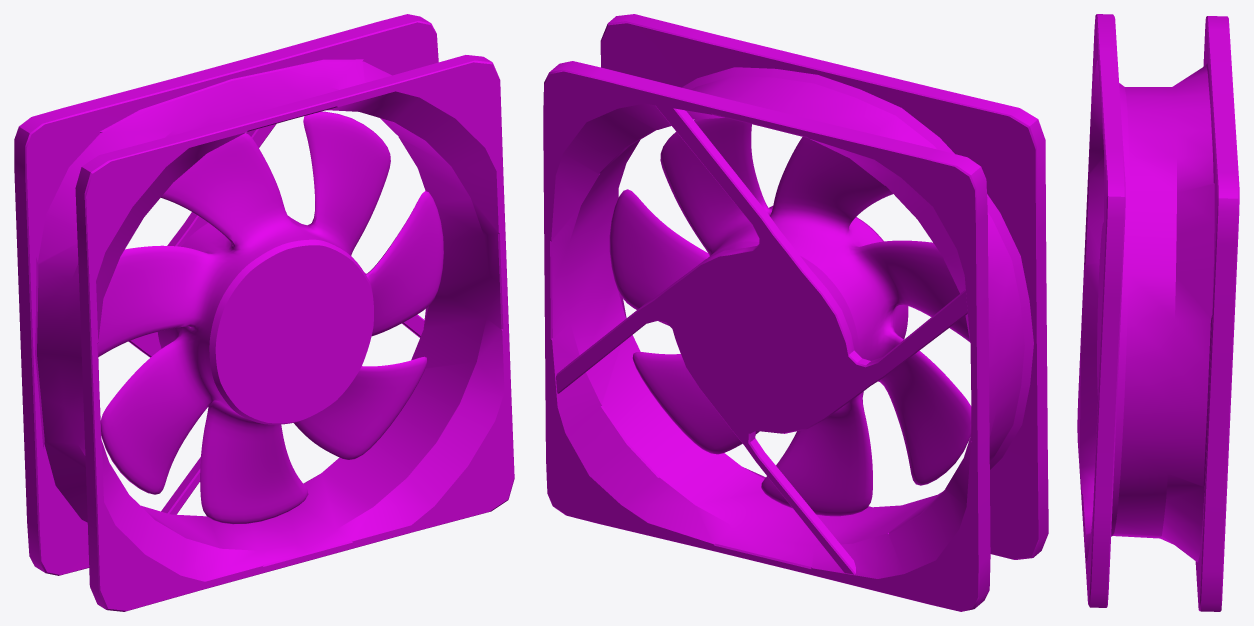
File: fan.glb
3 views of the same model, side by side, from view 1: azimuth 30°, elevation 25°; view 2: azimuth 150°, elevation 25°; view 3: azimuth 270°, elevation 25° (orthographic). The views are drawn at different scales.
Visible parts, largest first — view 1: fan; view 2: fan; view 3: fan.
Boxes of the visible parts, <box> form: fan: <box>14,14,514,611</box>; fan: <box>543,14,1048,611</box>; fan: <box>1077,14,1239,611</box>.
Size of the model in its own units: 0.6872 by 0.6983 by 0.2381.
